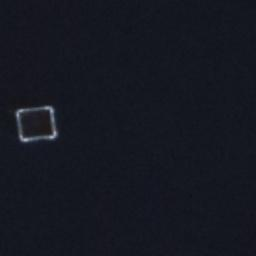square_solid: (12, 102, 62, 147)
